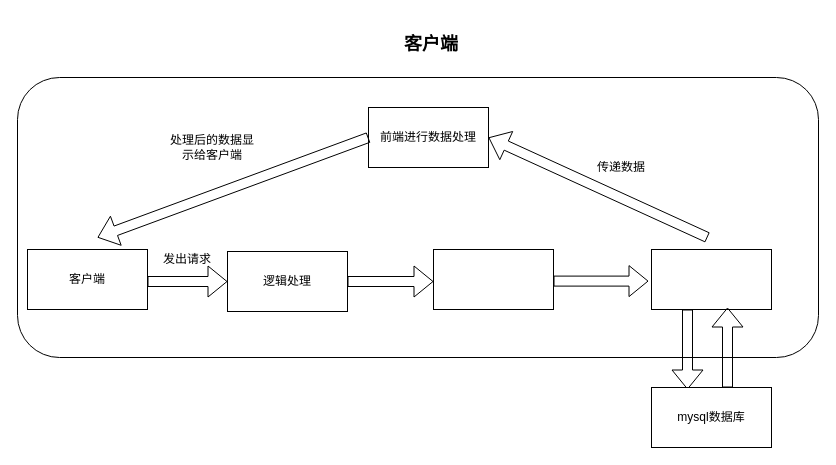
This 836x465 diagram has some shape labels left out. The centre of each missing label's shape, as x and y in pixels:
后端进行指令处理: point 711,279
向后端产生指令: point 493,279
